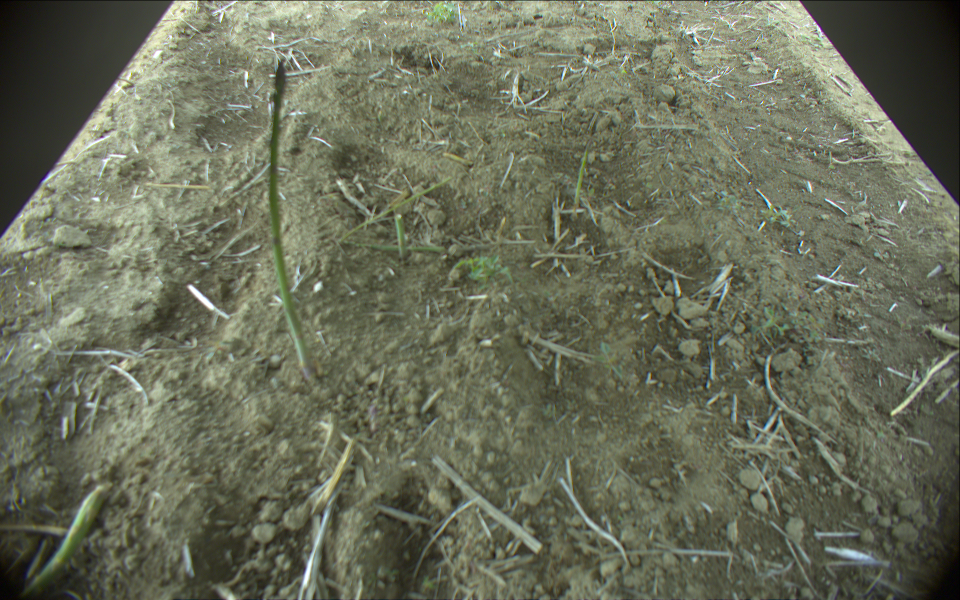aspa: (266, 55, 319, 385), (14, 484, 112, 600), (574, 121, 601, 216), (333, 237, 442, 255), (395, 215, 407, 265)
